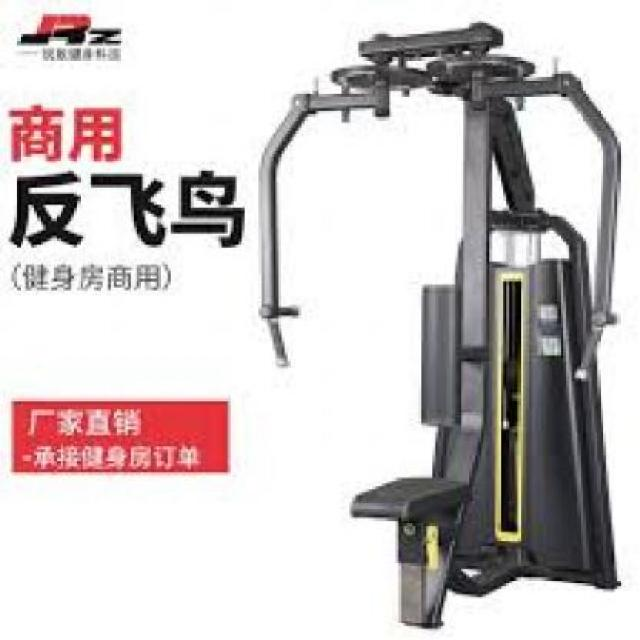chest fly machine: (224, 3, 640, 637)
